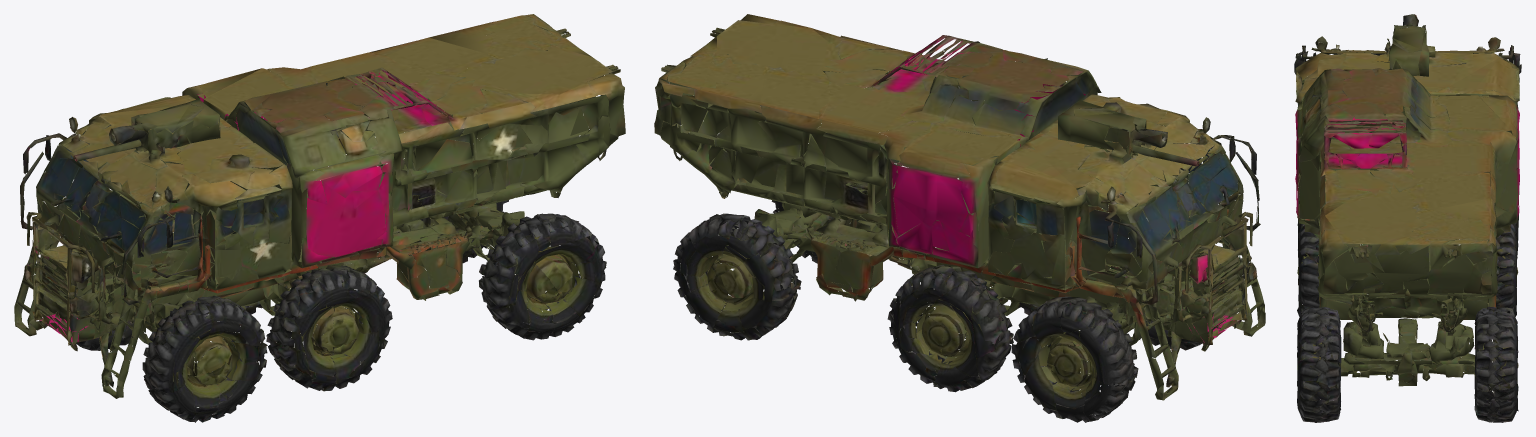
The model's file is mule.glb.
3 views of the same model, side by side, from view 1: azimuth 30°, elevation 25°; view 2: azimuth 150°, elevation 25°; view 3: azimuth 270°, elevation 25° (orthographic). The views are drawn at different scales.
Parts seen in each view (by area): view 1: Mesh_0; view 2: Mesh_0; view 3: Mesh_0.
Boxes of the visible parts, x1,y1,x2,y2 form: Mesh_0: (14, 14, 625, 422); Mesh_0: (654, 14, 1265, 422); Mesh_0: (1294, 14, 1521, 422).
Size of the model in its own units: 1.89 by 0.861 by 0.7512.
1 material, 1 textured.
